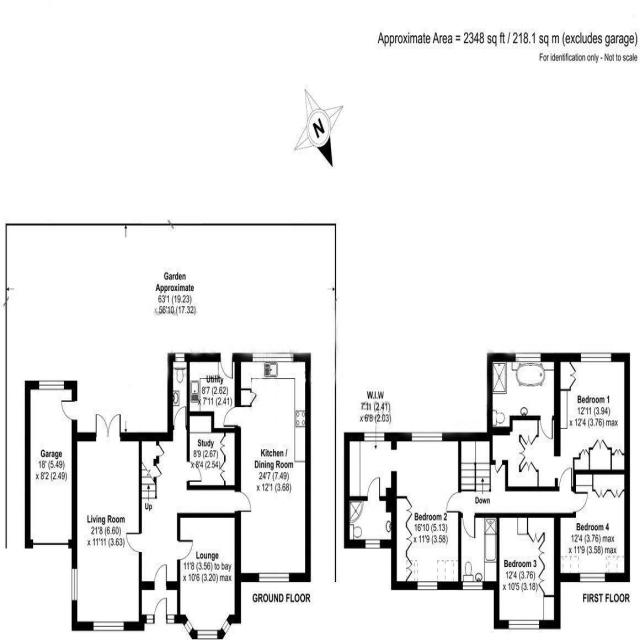DOOR: (153, 595, 167, 625), (223, 405, 241, 428), (176, 539, 194, 562), (220, 352, 234, 380), (153, 563, 167, 591), (462, 512, 476, 540), (445, 491, 462, 514), (234, 491, 252, 512), (572, 491, 589, 513), (367, 476, 381, 502), (559, 466, 573, 492), (539, 414, 553, 440), (125, 532, 142, 553), (186, 461, 202, 483), (173, 405, 187, 430)
DOUBLE DOOR: (95, 409, 124, 443)
ROOM: (222, 352, 311, 584), (71, 413, 142, 632), (386, 432, 462, 591), (554, 352, 630, 492), (554, 469, 630, 583), (177, 510, 242, 640), (494, 512, 561, 630), (186, 352, 241, 433), (186, 411, 241, 491)
WINDOW: (252, 352, 294, 363), (411, 431, 443, 443), (258, 572, 290, 583), (508, 619, 540, 630), (580, 352, 612, 363), (93, 621, 124, 632), (580, 572, 606, 583), (515, 352, 541, 363), (363, 431, 385, 442), (71, 568, 78, 601), (197, 629, 218, 640), (462, 580, 483, 591), (417, 580, 438, 590), (365, 538, 381, 549), (184, 618, 194, 635), (221, 618, 231, 635), (175, 352, 185, 363), (166, 614, 175, 625), (146, 614, 154, 625)
